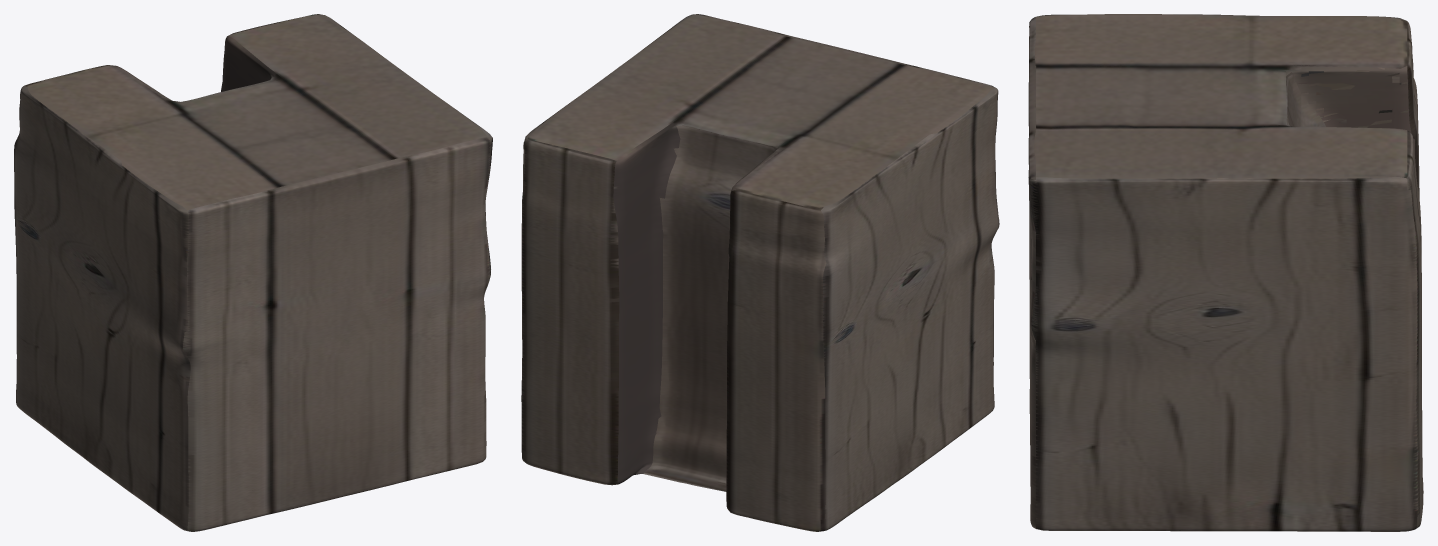
The model's file is wall-timber-corner.glb.
3 views of the same model, side by side, from view 1: azimuth 30°, elevation 25°; view 2: azimuth 150°, elevation 25°; view 3: azimuth 270°, elevation 25° (orthographic). The views are drawn at different scales.
Visible parts, largest first — view 1: tmpzi7zfktn.ply; view 2: tmpzi7zfktn.ply; view 3: tmpzi7zfktn.ply.
Boxes of the visible parts, x1,y1,x2,y2 form: tmpzi7zfktn.ply: (14,14,492,531); tmpzi7zfktn.ply: (521,14,999,531); tmpzi7zfktn.ply: (1028,14,1423,531).
Size of the model in its own units: 1 by 1 by 1.
1 material, 1 textured.
